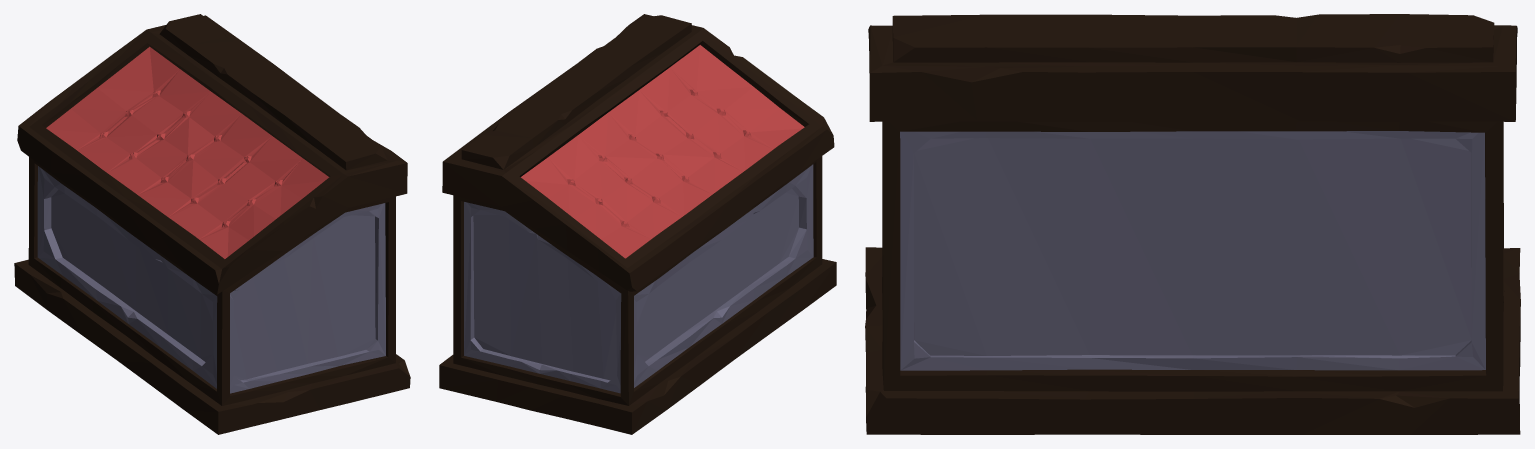
File: SFFA_Weapon_Stand_004.fbx
3 views of the same model, side by side, from view 1: azimuth 30°, elevation 25°; view 2: azimuth 150°, elevation 25°; view 3: azimuth 270°, elevation 25° (orthographic). The views are drawn at different scales.
Visible parts, largest first — view 1: SFFA_Weapon_Stand_004; view 2: SFFA_Weapon_Stand_004; view 3: SFFA_Weapon_Stand_004.
Part boxes in pixels (<box>): SFFA_Weapon_Stand_004: <box>14,14,410,434</box>; SFFA_Weapon_Stand_004: <box>439,14,836,434</box>; SFFA_Weapon_Stand_004: <box>865,14,1520,434</box>.
Bounding box in the file's own units: 111 × 129 × 204.
